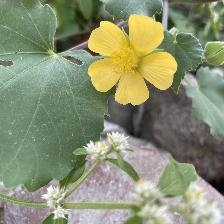indian mallow: (88, 14, 180, 107)
